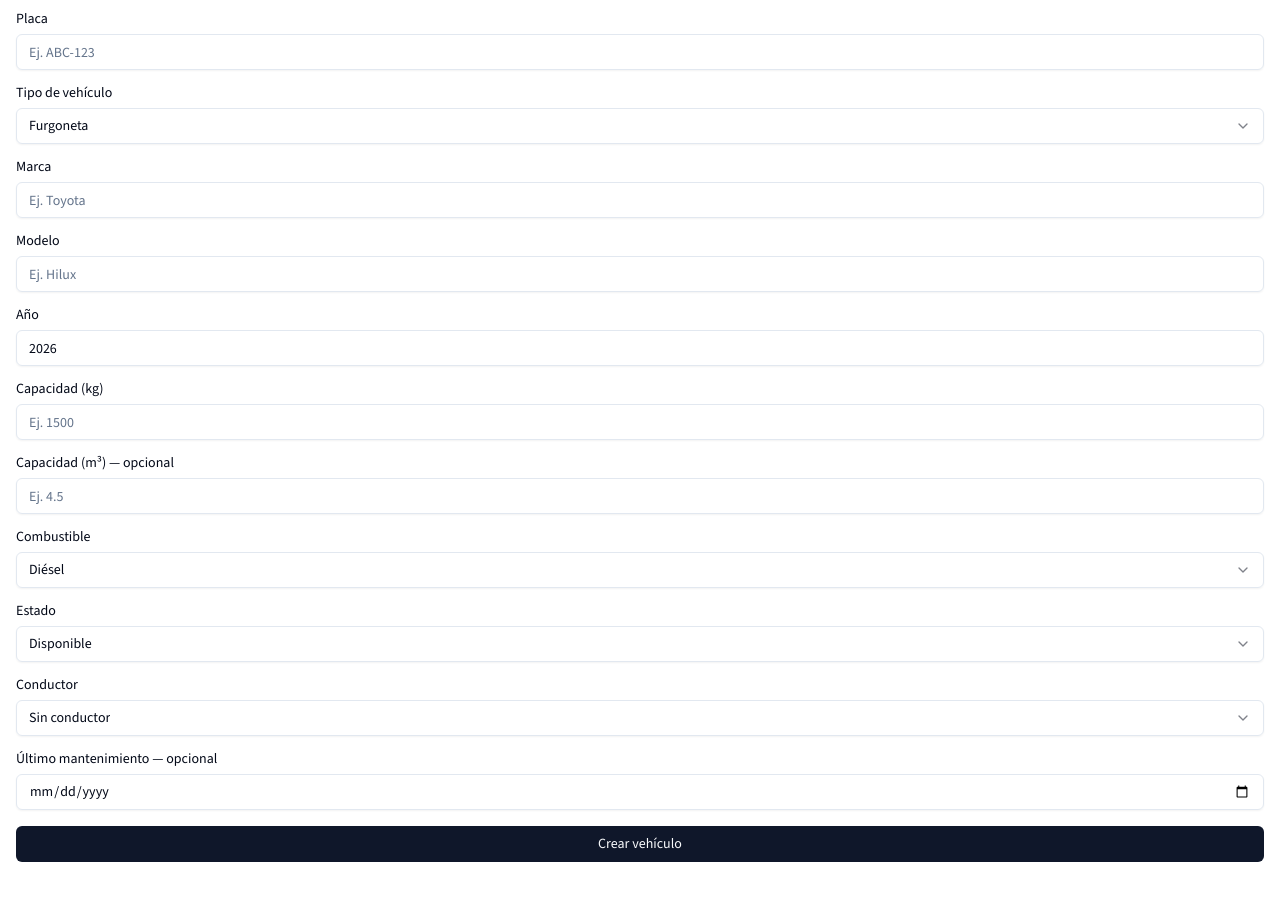
it: VehicleForm — validation › shows error when capacity_kg is invalid on submit
Type "XYZ-999" into the field with placeholder "Ej. ABC-123" at (640, 52), box [16,34,1264,70]
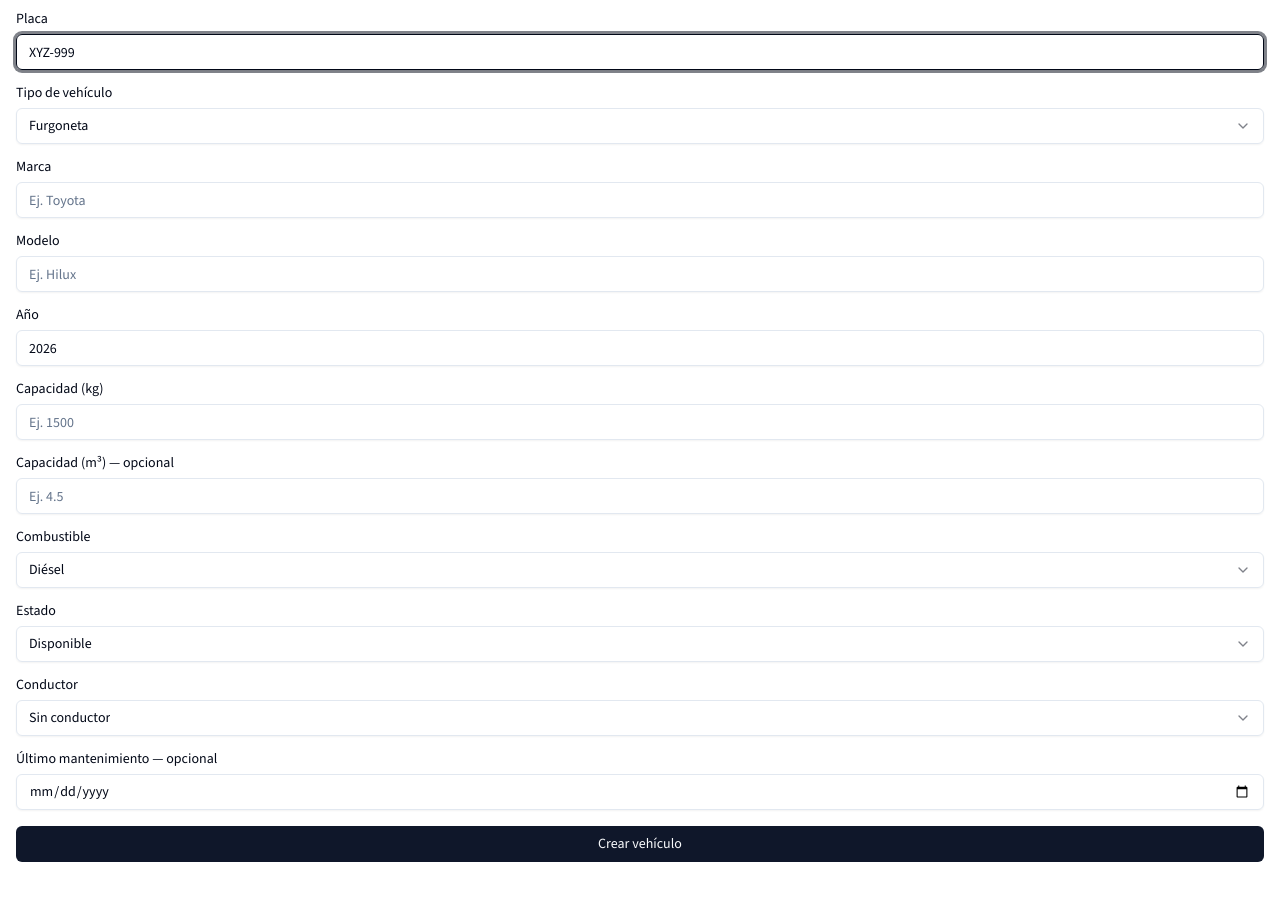
Type "Honda" into the field with placeholder "Ej. Toyota" at (640, 200), box [16,182,1264,218]
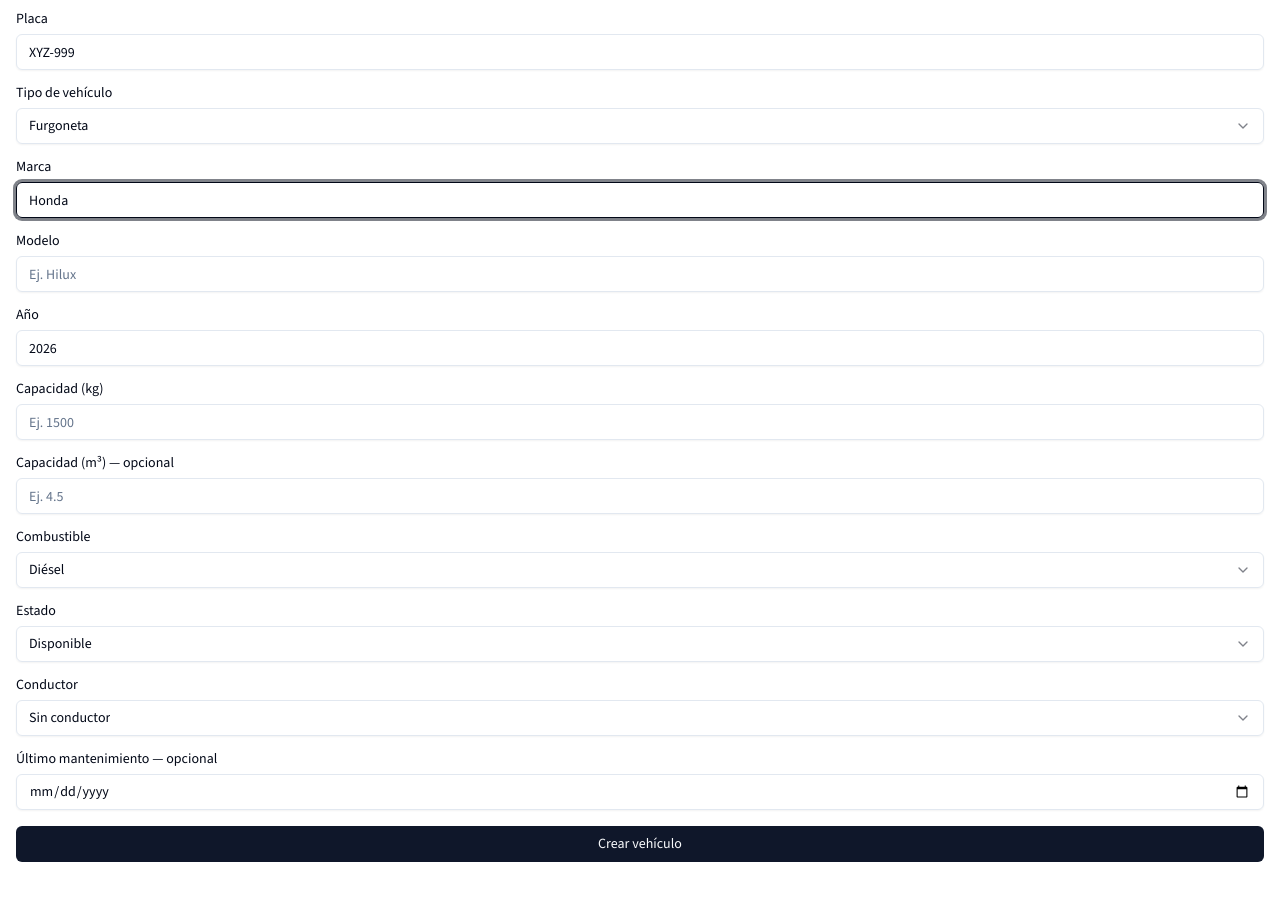
Type "CRV" into the field with placeholder "Ej. Hilux" at (640, 274), box [16,256,1264,292]
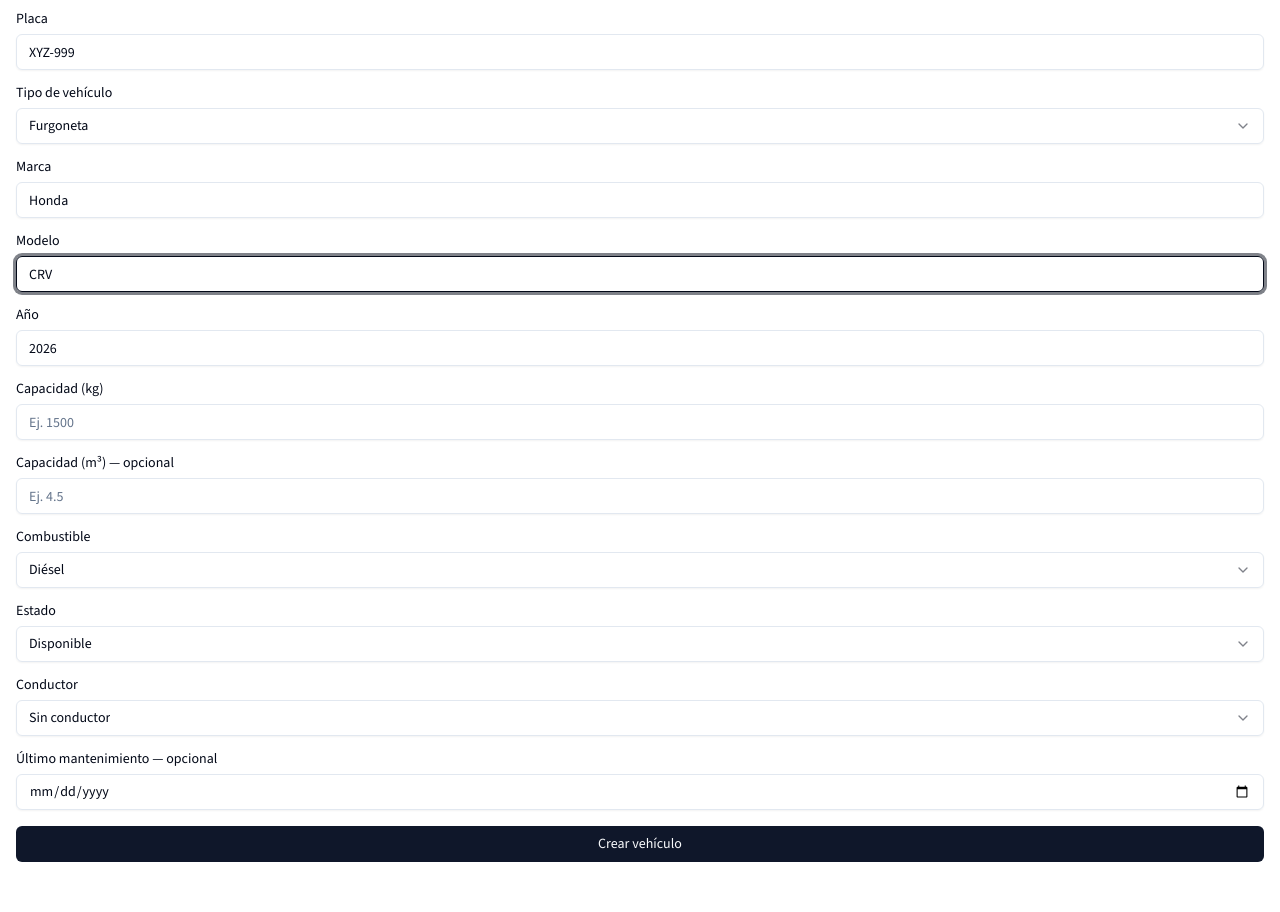
Type "abc" into the field with placeholder "Ej. 1500" at (640, 422), box [16,404,1264,440]
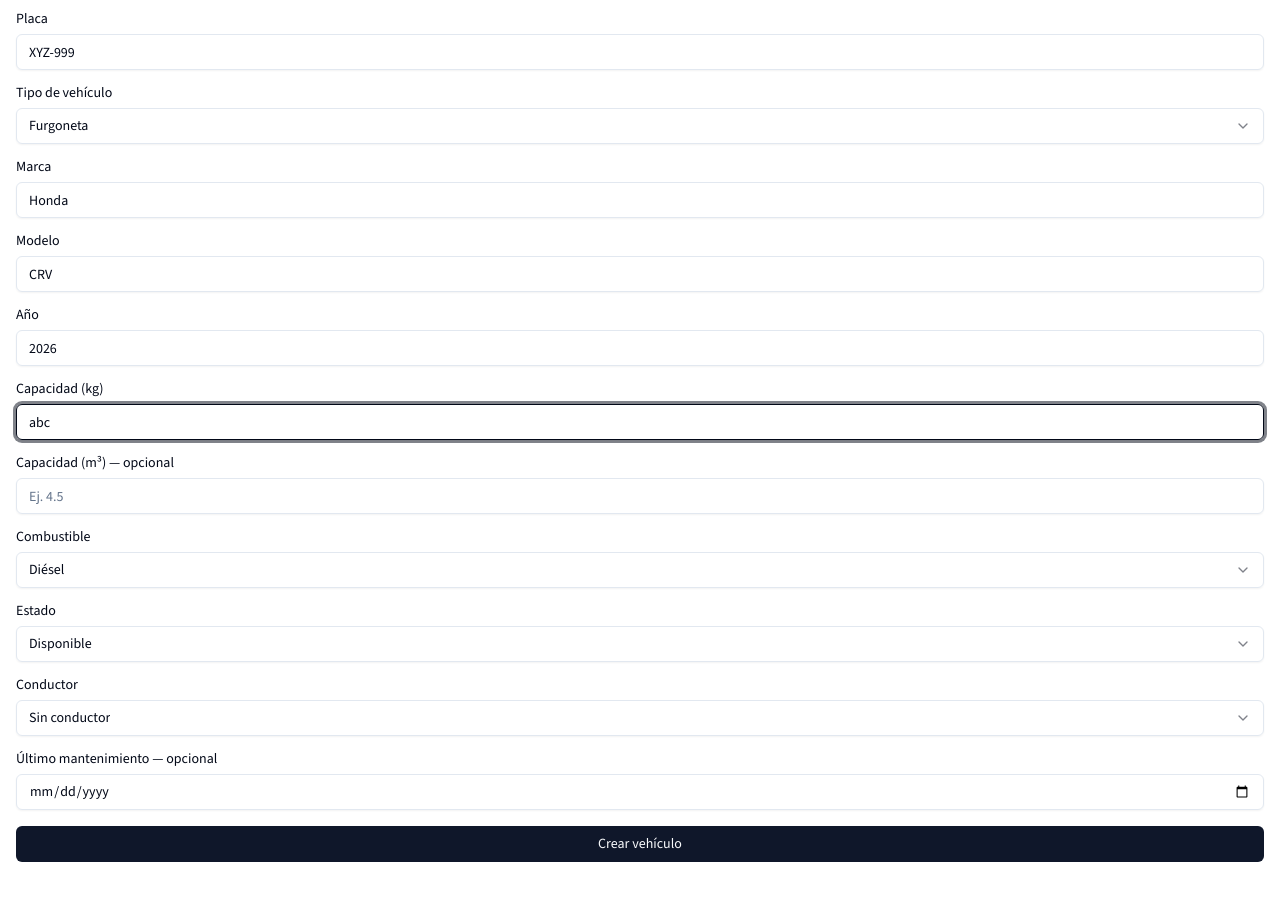
Click the button "Crear vehículo" at (640, 844), box [16,826,1264,862]
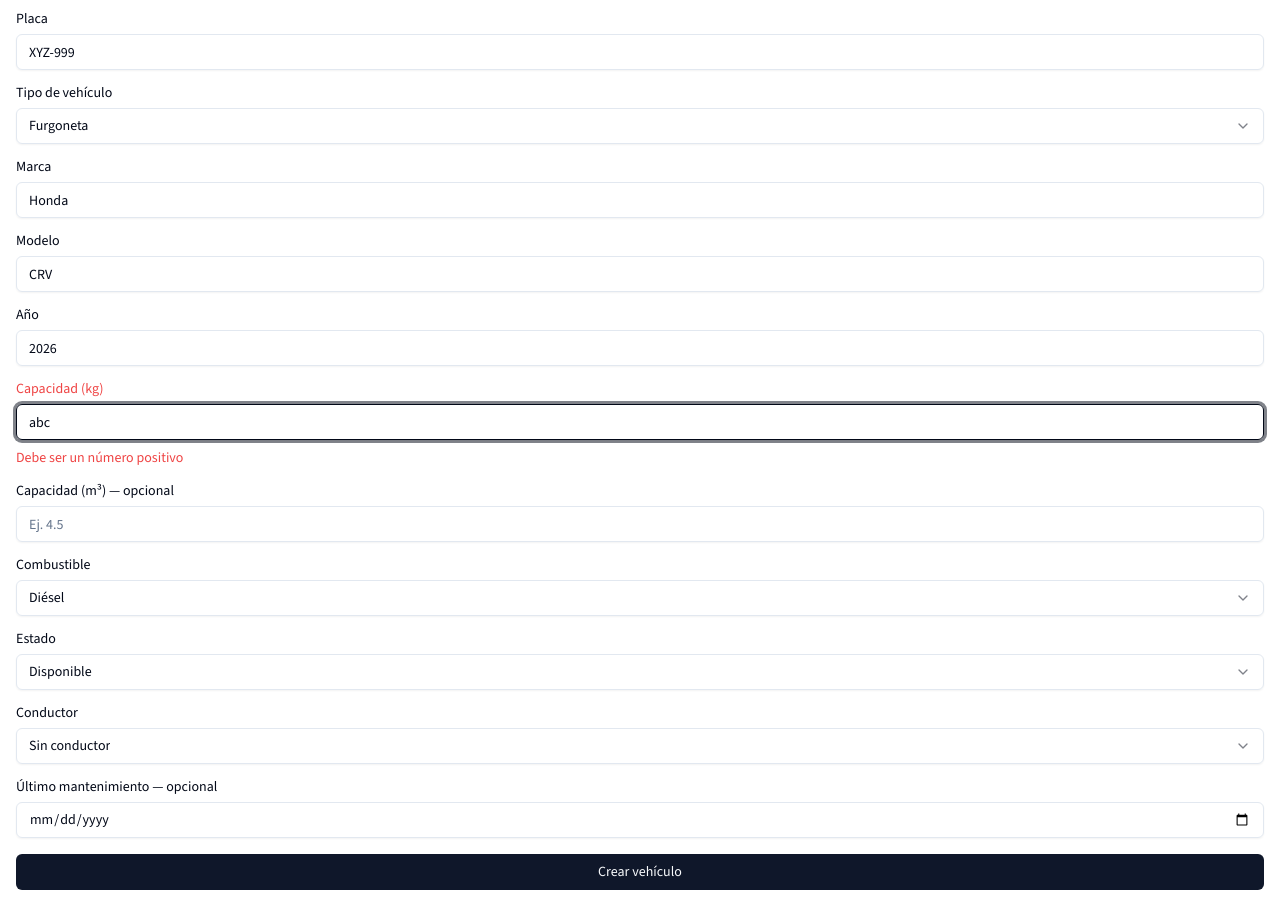
expect the text "Debe ser un número positivo" is shown: met, box [16,448,183,467]
